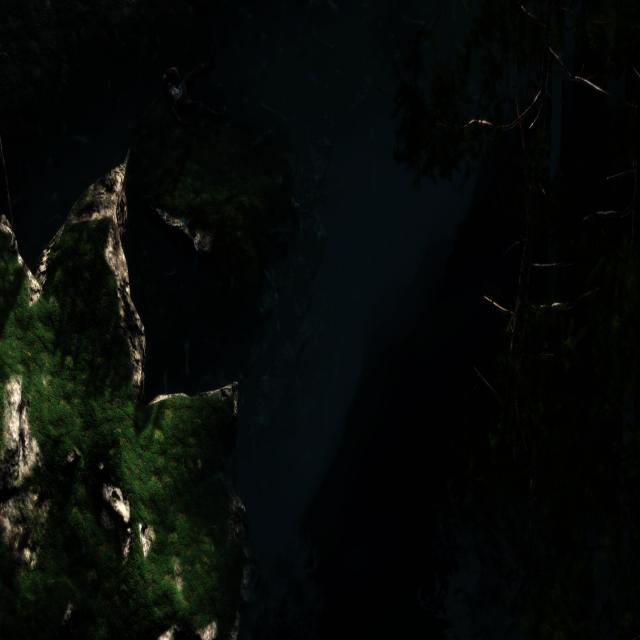Human: (160, 42, 227, 132)
